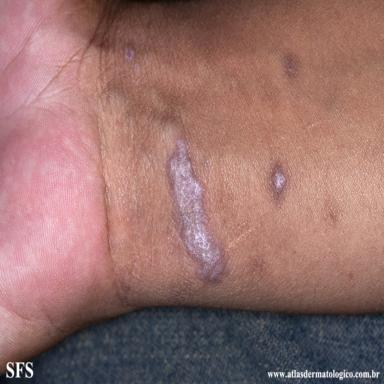lichen: (168, 139, 223, 284), (269, 162, 289, 200), (282, 53, 299, 80), (125, 47, 133, 61), (134, 63, 139, 72)
